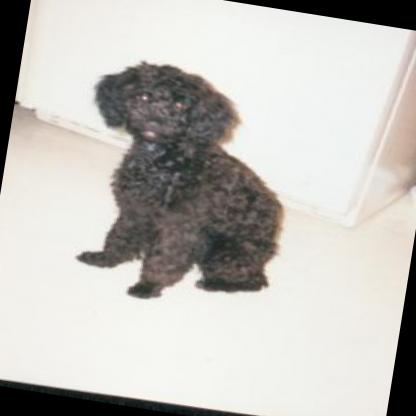miniature_poodle: (60, 51, 306, 317)
